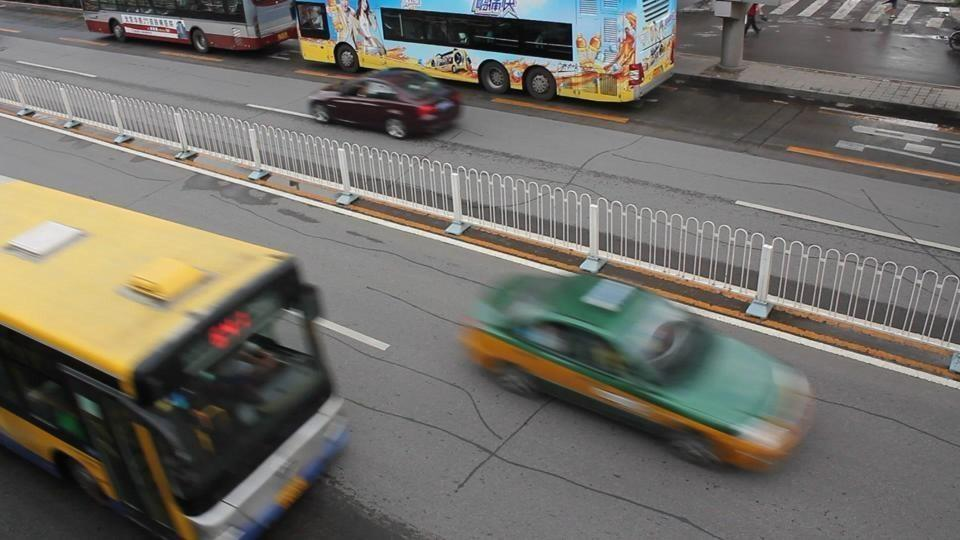car: (454, 263, 818, 473), (305, 68, 463, 140), (939, 12, 960, 52)
